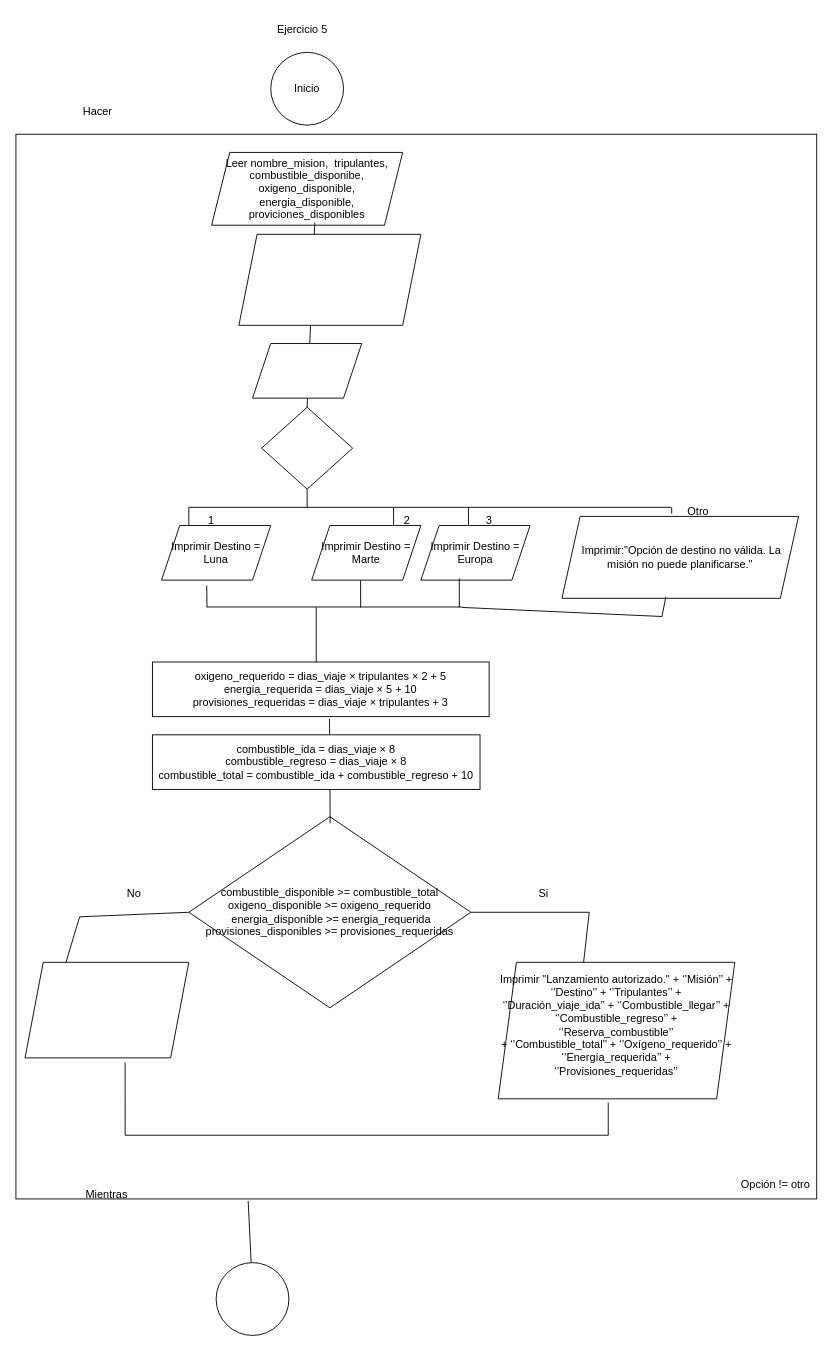
The diagram is 833 pixels wide and 1351 high, and some of its shapes have lost their labels. Each missing label, with the centre of its shape:
Fin: point (252, 1298)
Imprimir "Lanzamiento no autorizado. La misión debe ser revisada.": point (106, 1009)
Imprimir "seleccione el destino" 1. Luna 2. Marte 3. Europa: point (329, 279)
Leer opción_destino: point (307, 370)
Opción_destino: point (307, 447)
